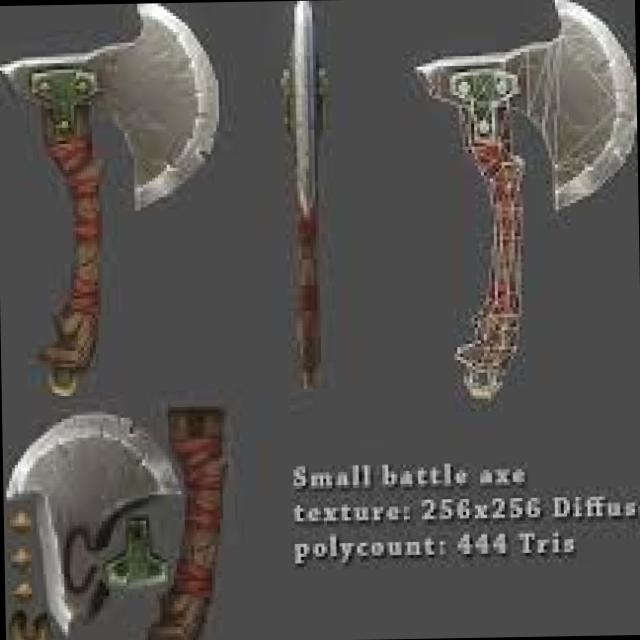Gun: (397, 0, 640, 428), (0, 2, 226, 403), (1, 392, 254, 640), (261, 0, 357, 391)
